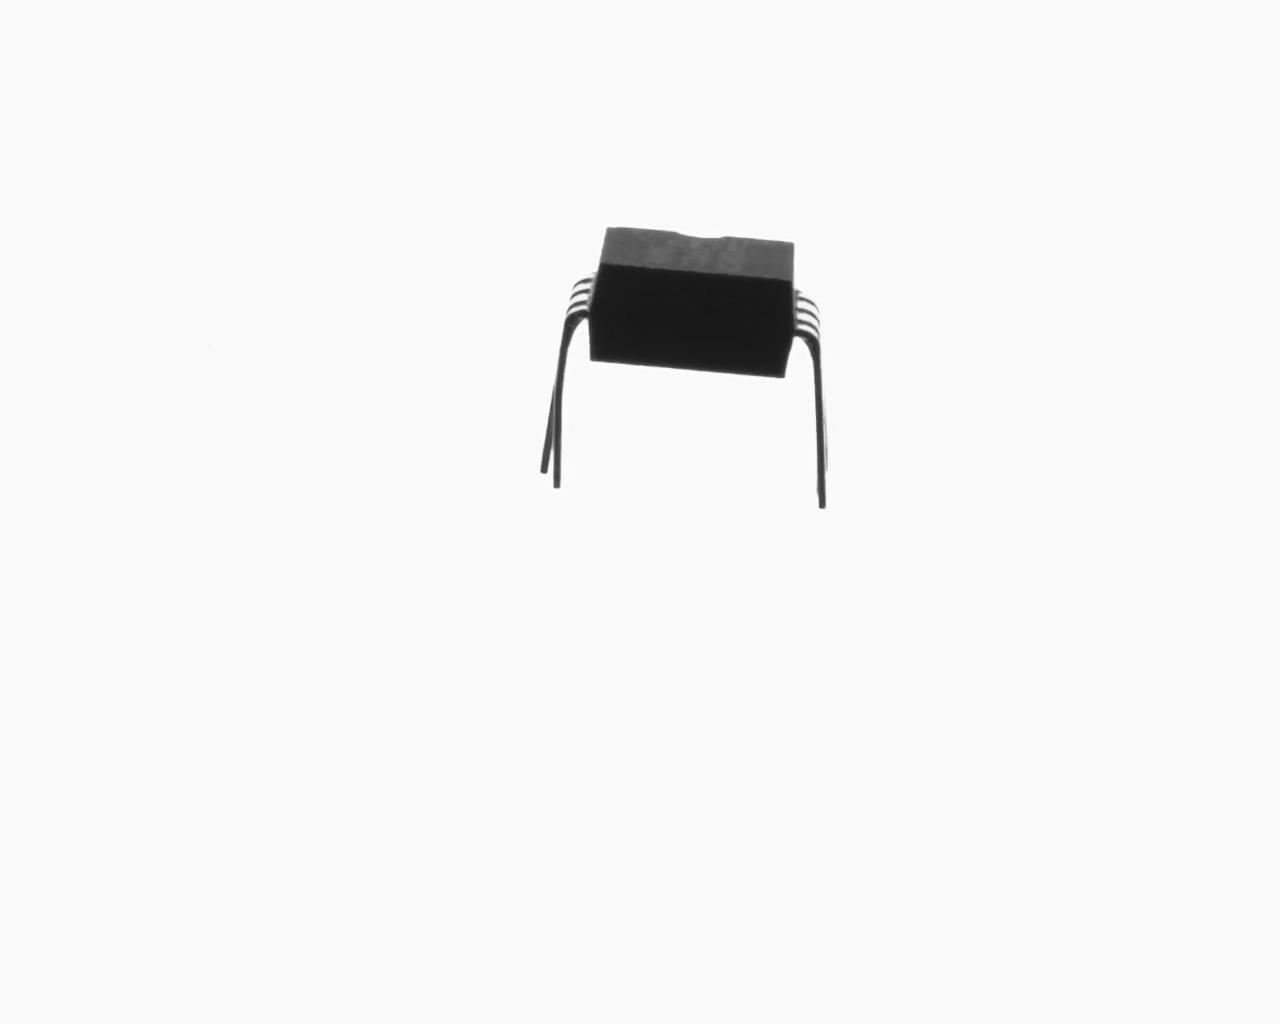Leg: (785, 287, 855, 517), (529, 279, 603, 489)
